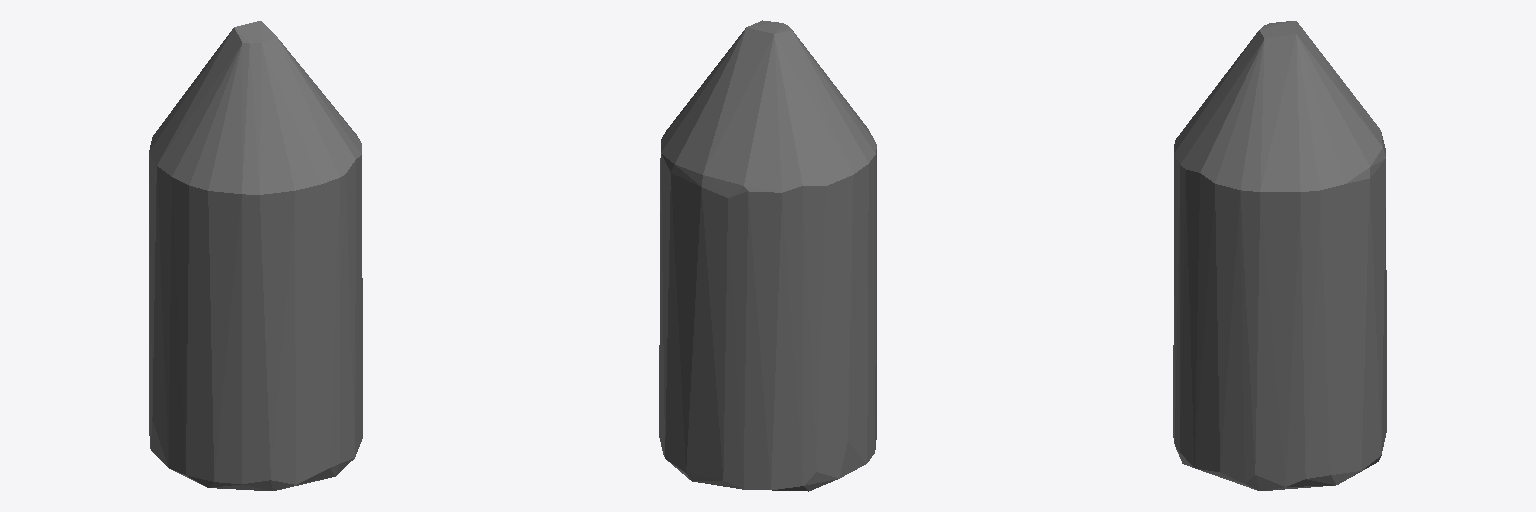
URDF robot description (spray_can_000):
<?xml version="1.0" ?>
<robot name="spray_can_000">
  <material name="color">
    <color rgba=".5 .5 .5 1"/>
  </material>

  <link name="base_link">
    <contact>
      <lateral_friction value="1.0"/>
      <rolling_friction value="0.001"/>
      <spinning_friction value="0.001"/>
      <inertia_scaling value="1.0"/>
    </contact>
    <inertial>
      <origin rpy="0 0 0" xyz="8.5281e-06 0.000391797 -0.0167245"/>
       <mass value="0.1"/>
       <inertia ixx="1" ixy="0" ixz="0" iyy="1" iyz="0" izz="1"/>
    </inertial>

    <visual>
      <origin rpy="0 0 0" xyz="0 0 0"/>
      <geometry>
        <mesh filename="spray_can_000_vhacd_0_of_1.obj" scale="1 1 1"/>
      </geometry>
      <material name="color"/>
    </visual>

    <collision>
      <origin rpy="0 0 0" xyz="0 0 0"/>
      <geometry>
        <mesh filename="spray_can_000_vhacd_0_of_1.obj" scale="1 1 1"/>
      </geometry>
    </collision>

  </link>
</robot>

--- What the picture shows (computed from the rendered views, not written in the file) ---
The picture shows the robot from 3 angles, left to right: view 1: azimuth 30°, elevation 25°; view 2: azimuth 150°, elevation 25°; view 3: azimuth 270°, elevation 25°; orthographic projection.
Model spray_can_000 with 1 links and 0 joints (none), rooted at base_link, posed all joints at 0.
Links seen in each view (by area): view 1: base_link; view 2: base_link; view 3: base_link.
Link boxes in pixels (<box>): base_link: <box>149,21,362,490</box>; base_link: <box>659,20,876,491</box>; base_link: <box>1173,21,1386,490</box>.
Size in the robot's own frame: 0.0826 by 0.0825 by 0.1796 metres.
1 mesh visuals loaded from 1 distinct referenced files (1 OBJ).